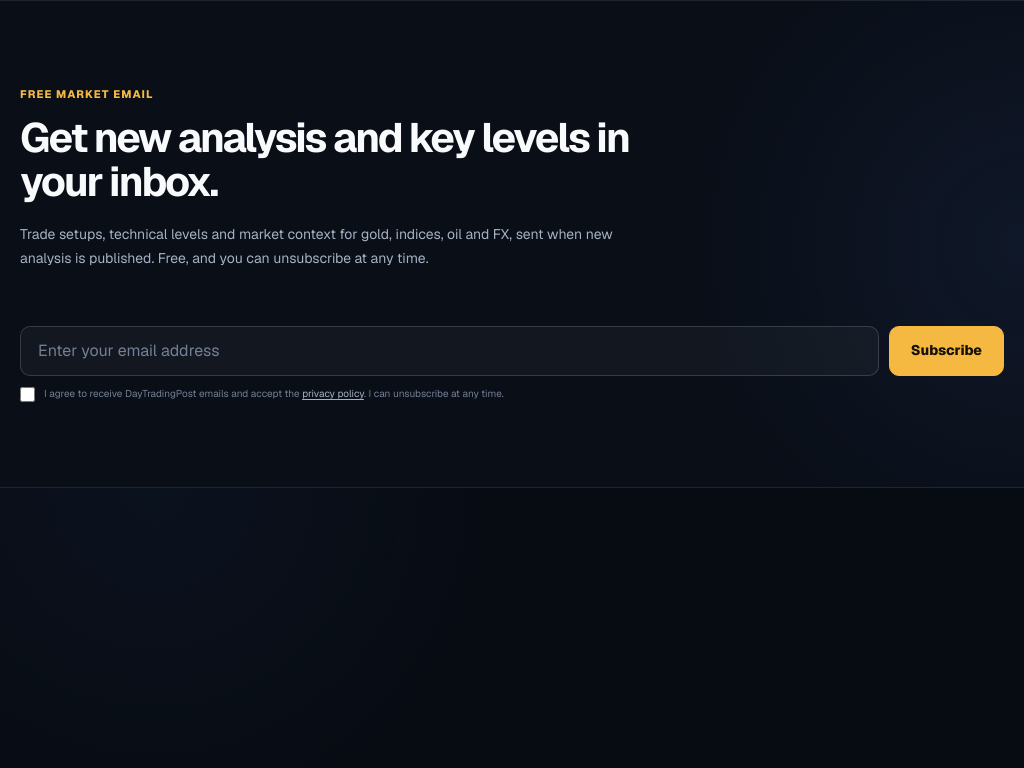
Test: newsletter section › sends the signup source with the request
Type "trader@example.com" into the field labelled "email address" at x=449, y=351, box [20, 326, 879, 376]
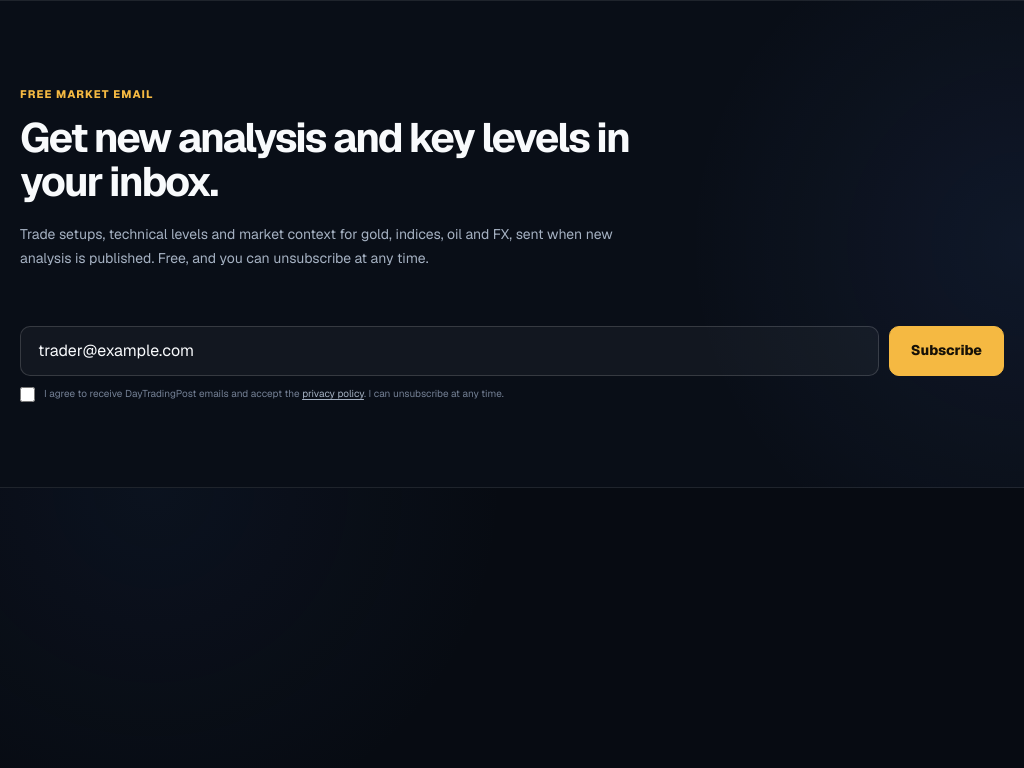
Click the checkbox at x=28, y=394, box [20, 387, 35, 402]
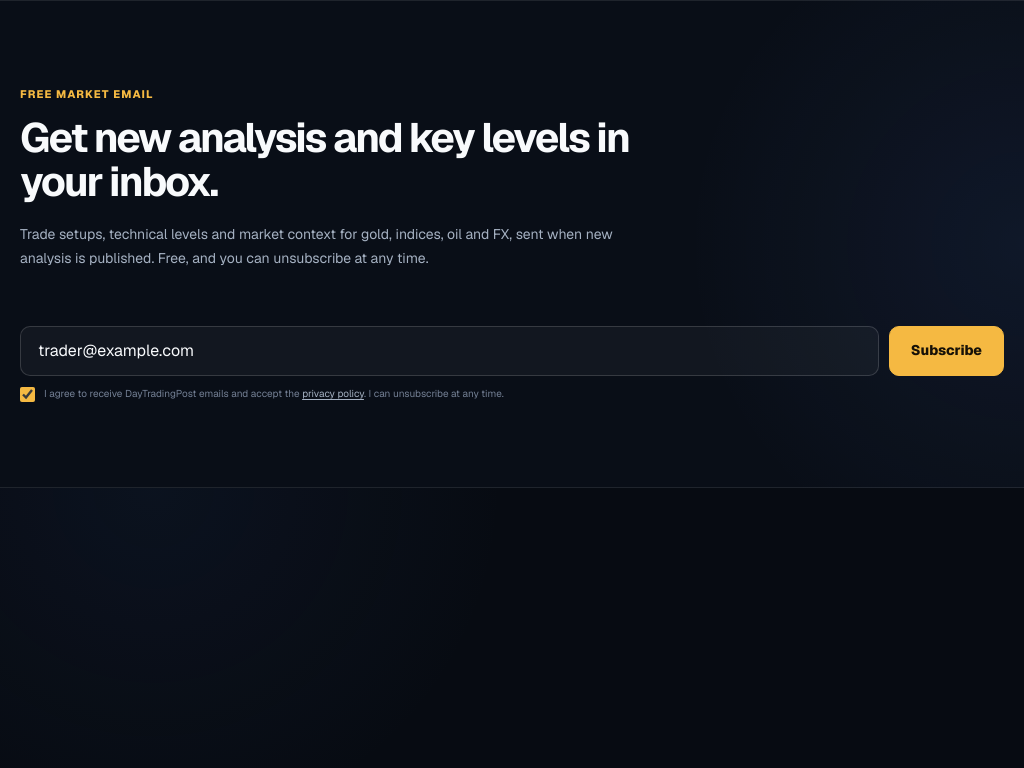
Click the button "Subscribe" at x=946, y=351, box [889, 326, 1004, 376]
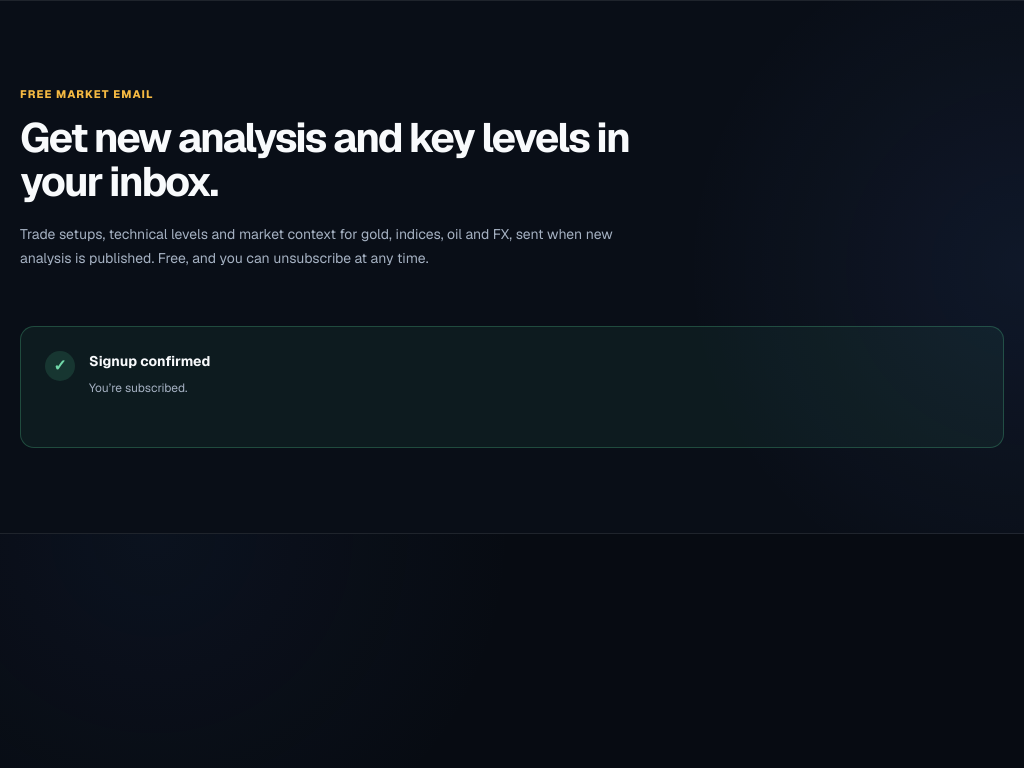
Expected: the text "Signup confirmed" is shown, [89, 351, 210, 372]
